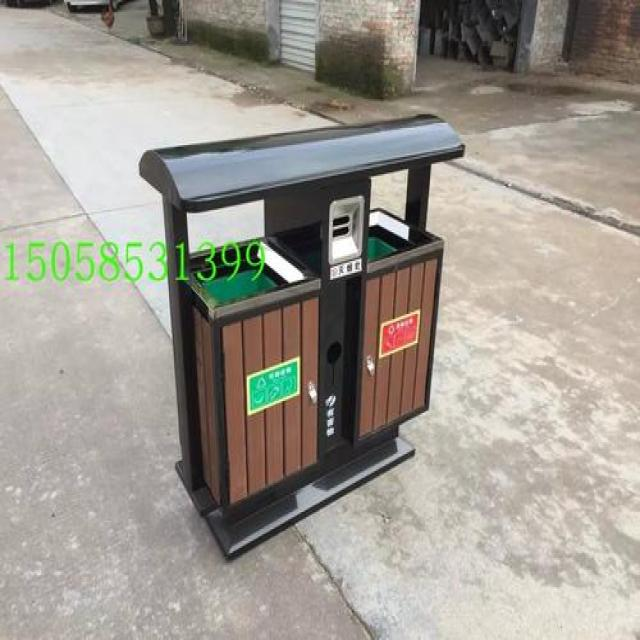garbage_bin: (137, 111, 465, 560)
